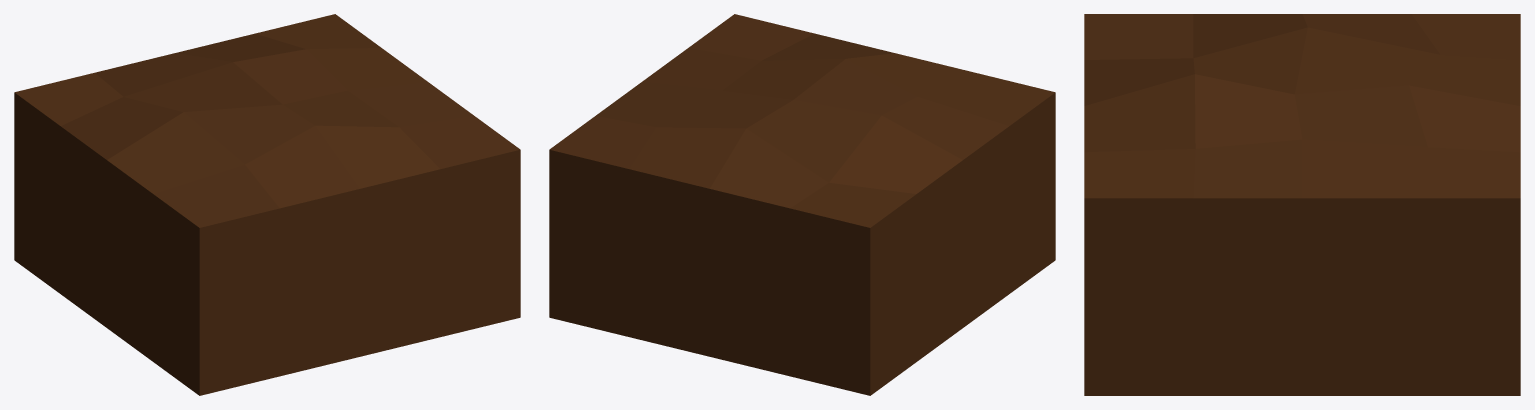
File: S_FarmBlock_4.fbx
The picture shows the model from 3 angles, left to right: view 1: azimuth 30°, elevation 25°; view 2: azimuth 150°, elevation 25°; view 3: azimuth 270°, elevation 25°; orthographic projection. The views are drawn at different scales.
Visible parts, largest first — view 1: FarmBlock_square_v2; view 2: FarmBlock_square_v2; view 3: FarmBlock_square_v2.
Boxes of the visible parts, x1,y1,x2,y2 form: FarmBlock_square_v2: (14, 14, 520, 395); FarmBlock_square_v2: (549, 14, 1055, 395); FarmBlock_square_v2: (1084, 14, 1520, 395).
Size of the model in its own units: 400 by 234 by 400.
